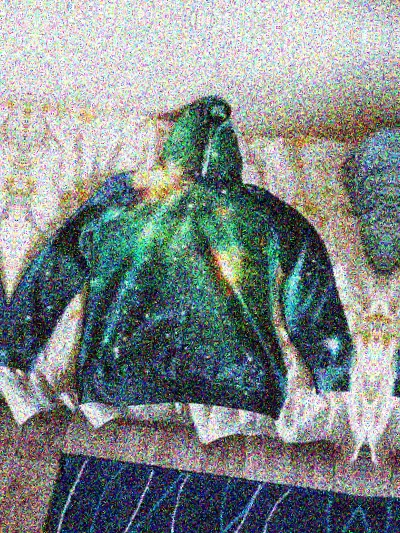Hoodie: (9, 73, 371, 456), (0, 37, 17, 420), (393, 111, 400, 495)
